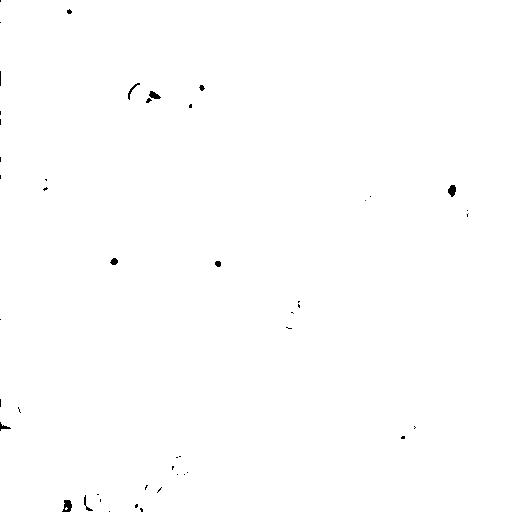micro-algae: (161, 50, 235, 125), (355, 34, 421, 100), (389, 419, 434, 455), (453, 189, 489, 231), (317, 280, 355, 317), (198, 245, 234, 279), (433, 169, 463, 209), (261, 364, 301, 392), (95, 245, 129, 277), (51, 0, 85, 24), (103, 449, 132, 477), (150, 0, 179, 27), (437, 1, 471, 24), (392, 418, 423, 443), (175, 85, 199, 115), (444, 31, 474, 54), (128, 81, 153, 108), (385, 392, 410, 418), (275, 333, 302, 357), (191, 71, 213, 100), (1, 398, 20, 430), (215, 0, 247, 19), (268, 402, 289, 429), (205, 491, 233, 511), (81, 487, 103, 512), (389, 69, 414, 91), (147, 107, 169, 131), (278, 310, 303, 331), (141, 361, 160, 387), (361, 191, 385, 211), (295, 293, 318, 313), (48, 209, 71, 227), (1, 66, 19, 88), (143, 479, 165, 497), (384, 281, 406, 299), (51, 496, 72, 512), (133, 308, 147, 327), (0, 154, 12, 176), (36, 173, 49, 193), (0, 0, 11, 21), (1, 107, 11, 125)
